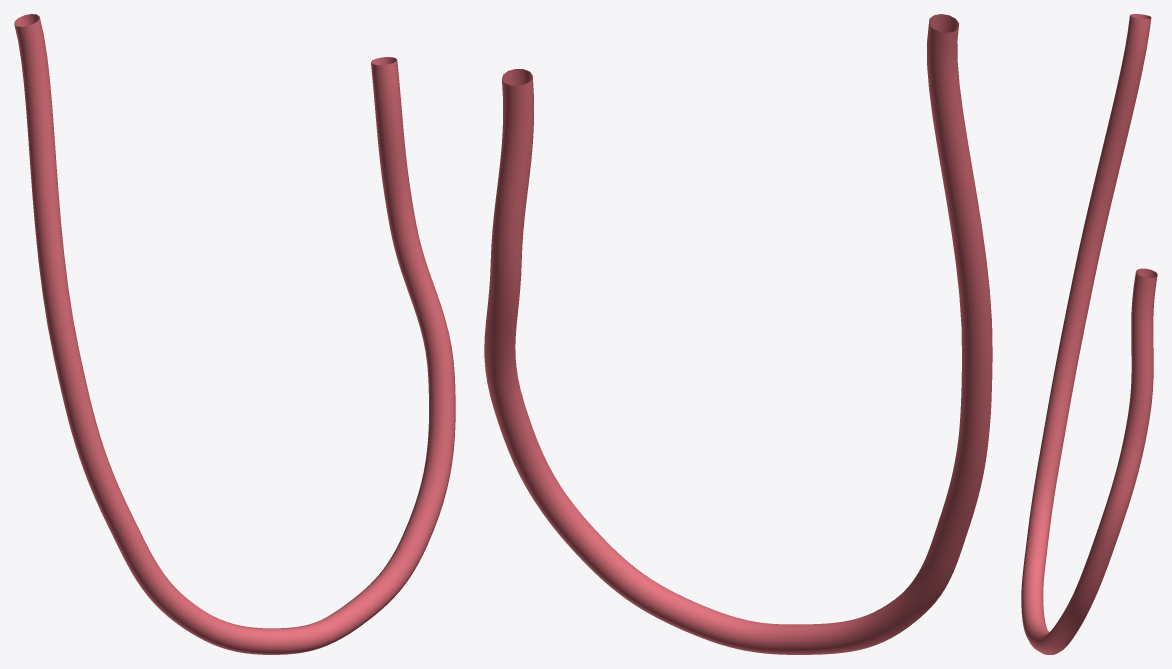
The picture shows the model from 3 angles, left to right: view 1: azimuth 30°, elevation 25°; view 2: azimuth 150°, elevation 25°; view 3: azimuth 270°, elevation 25°; orthographic projection. The views are drawn at different scales.
Visible parts, largest first — view 1: ZA_5ec63fffdf9ffe7e; view 2: ZA_5ec63fffdf9ffe7e; view 3: ZA_5ec63fffdf9ffe7e.
Part boxes in pixels (<box>): ZA_5ec63fffdf9ffe7e: <box>14,14,455,654</box>; ZA_5ec63fffdf9ffe7e: <box>484,14,992,654</box>; ZA_5ec63fffdf9ffe7e: <box>1021,14,1157,654</box>.
Size of the model in its own units: 0.0488 by 0.0715 by 0.0166.
